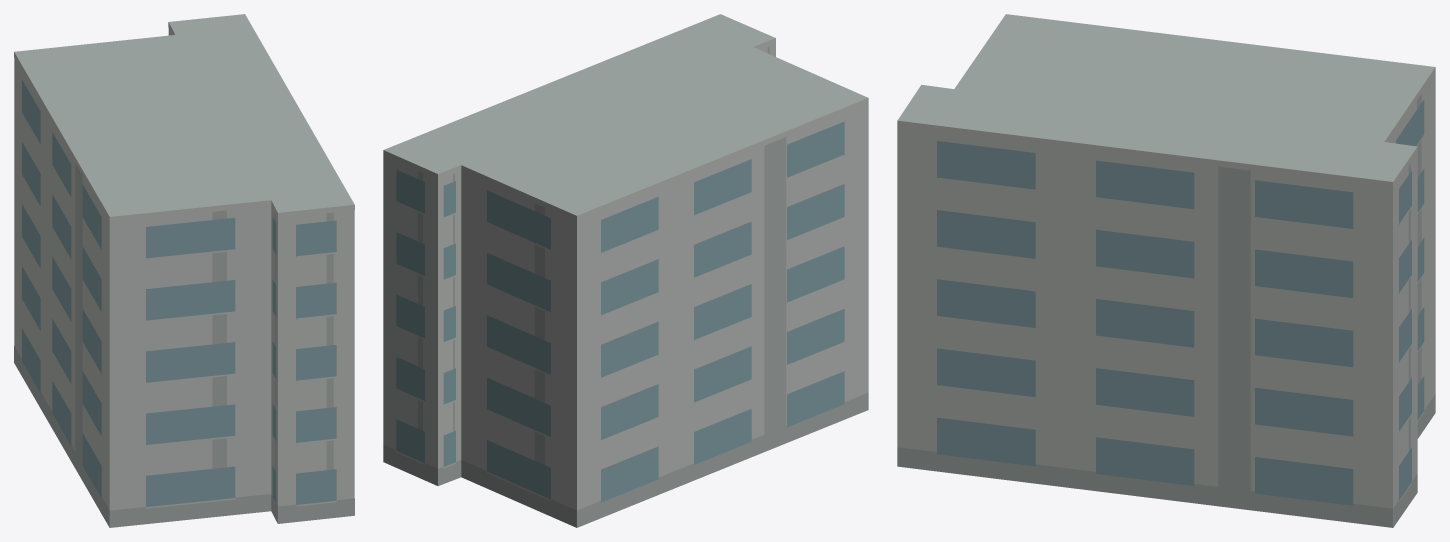
File: survey-upis-32868500.glb
3 renders of one model, left to right at view 1: azimuth 30°, elevation 25°; view 2: azimuth 150°, elevation 25°; view 3: azimuth 270°, elevation 25°, orthographic. The views are drawn at different scales.
Visible parts, largest first — view 1: survey-upis-32868500.tmp; view 2: survey-upis-32868500.tmp; view 3: survey-upis-32868500.tmp.
Part boxes in pixels (box(x1,y1,x2,y2)): survey-upis-32868500.tmp: box(14, 14, 354, 527); survey-upis-32868500.tmp: box(383, 14, 868, 527); survey-upis-32868500.tmp: box(897, 14, 1435, 527).
Bounding box in the file's own units: 14.07 × 13.5 × 19.04.
